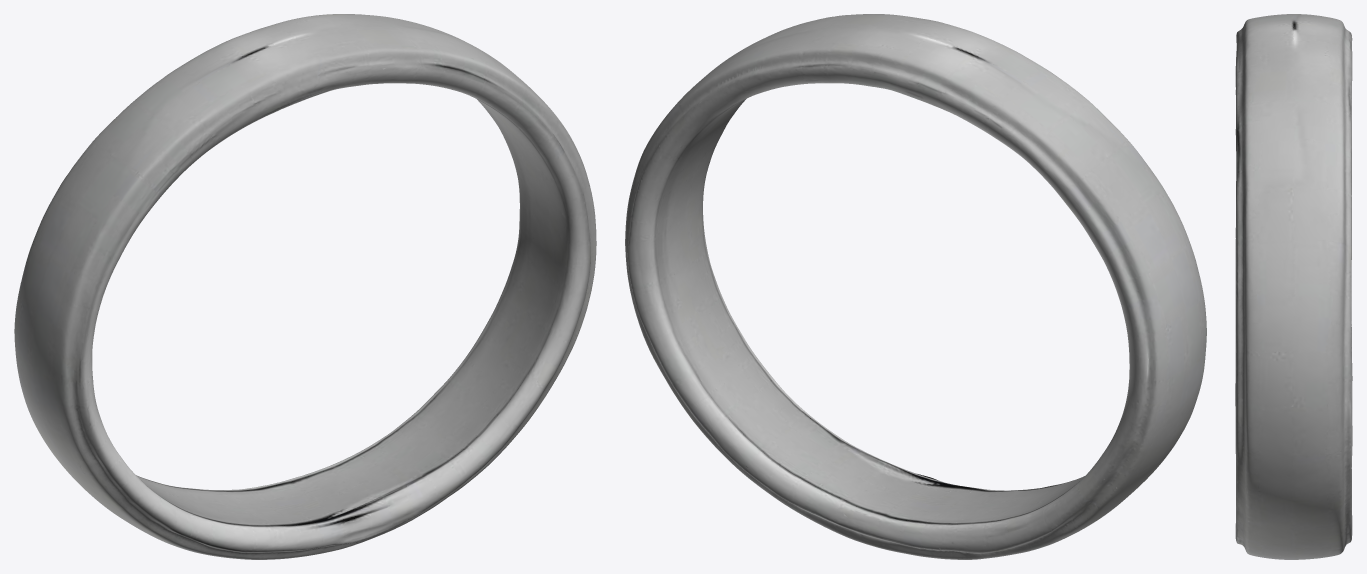
Rendered from ring.glb.
3 views of the same model, side by side, from view 1: azimuth 30°, elevation 25°; view 2: azimuth 150°, elevation 25°; view 3: azimuth 270°, elevation 25° (orthographic). The views are drawn at different scales.
Parts seen in each view (by area): view 1: Mesh_0; view 2: Mesh_0; view 3: Mesh_0.
Part boxes in pixels (box(x1,y1,x2,y2)): Mesh_0: box(14, 14, 596, 559); Mesh_0: box(625, 14, 1206, 559); Mesh_0: box(1235, 14, 1352, 559).
Bounding box in the file's own units: 1.67 × 1.47 × 0.3245.
Materials: 1 (1 with a texture image).
